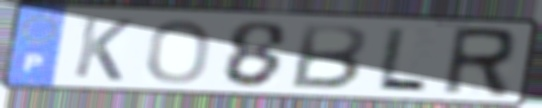8: (222, 20, 291, 90)
B: (286, 21, 371, 92)
K: (70, 15, 136, 84)
L: (371, 25, 432, 94)
O: (143, 18, 215, 86)
R: (437, 25, 519, 100)
